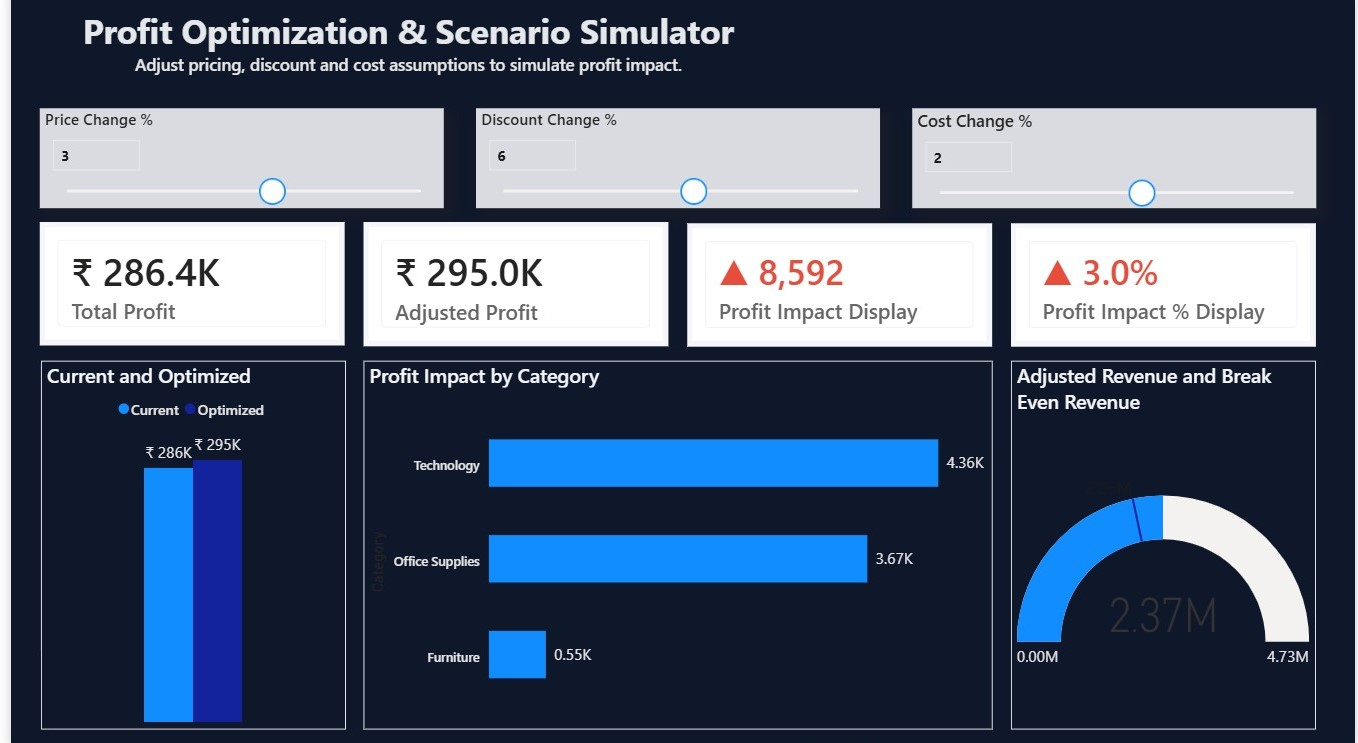

This screenshot's page, from the dashboard's own definition file:
{"tool":"powerbi","page":{"name":"Profit Optimization","canvas":[1280,720],"ordinal":2},"visuals":[{"type":"textbox","box":[28.6,10.7,699.7,78.7],"z":0},{"type":"slicer","title":"Price Change %","fields":{"Values":["Price Range%.Price Range%"]},"box":[27.4,110.7,384.5,95.2],"z":1000},{"type":"slicer","title":"Discount Change %","fields":{"Values":["Discount Change %.Discount Change %"]},"box":[442.6,110.9,385,95.4],"z":2000},{"type":"slicer","title":"Cost Change %","fields":{"Values":["Cost Change %.Cost Change %"]},"box":[858.3,110.7,384.5,95.2],"z":3000},{"type":"clusteredColumnChart","fields":{"Y":["Fact_Sales.Total Profit","Fact_Sales.Adjusted Profit"]},"box":[28.6,351.2,290.5,351.2],"z":4000},{"type":"clusteredBarChart","fields":{"Category":["Fact_Sales.Category"],"Y":["Fact_Sales.Profit Impact"]},"box":[335.7,351.2,598.8,351.2],"z":5000},{"type":"gauge","fields":{"Y":["Fact_Sales.Adjusted Revenue"],"TargetValue":["Fact_Sales.Break Even Revenue"]},"box":[952.4,351.2,290.5,351.2],"z":6000},{"type":"cardVisual","fields":{"Data":["Fact_Sales.Total Profit"]},"box":[27.4,219,290,117.9],"z":7000},{"type":"cardVisual","fields":{"Data":["Fact_Sales.Adjusted Profit"]},"box":[335.6,219.3,290,118],"z":8000},{"type":"cardVisual","fields":{"Data":["Fact_Sales.Profit Impact Display"]},"box":[643.7,220.2,290.5,117.9],"z":9000},{"type":"cardVisual","fields":{"Data":["Fact_Sales.Profit Impact % Display"]},"box":[952.4,220.2,290.5,117.9],"z":10000}]}

Visuals, with their boxes in screenshot pixels (x1, y1, x2, y2), scaled from the page's 1280x720 canvas onto the 1358x743 screenshot:
textbox: 30,11,773,92
"Price Change %" slicer: 29,114,437,212
"Discount Change %" slicer: 470,114,878,213
"Cost Change %" slicer: 911,114,1319,212
clusteredColumnChart - Fact_Sales.Total Profit x Fact_Sales.Adjusted Profit: 30,362,339,725
clusteredBarChart - Fact_Sales.Category x Fact_Sales.Profit Impact: 356,362,991,725
gauge - Fact_Sales.Adjusted Revenue x Fact_Sales.Break Even Revenue: 1010,362,1319,725
cardVisual - Fact_Sales.Total Profit: 29,226,337,348
cardVisual - Fact_Sales.Adjusted Profit: 356,226,664,348
cardVisual - Fact_Sales.Profit Impact Display: 683,227,991,349
cardVisual - Fact_Sales.Profit Impact % Display: 1010,227,1319,349
